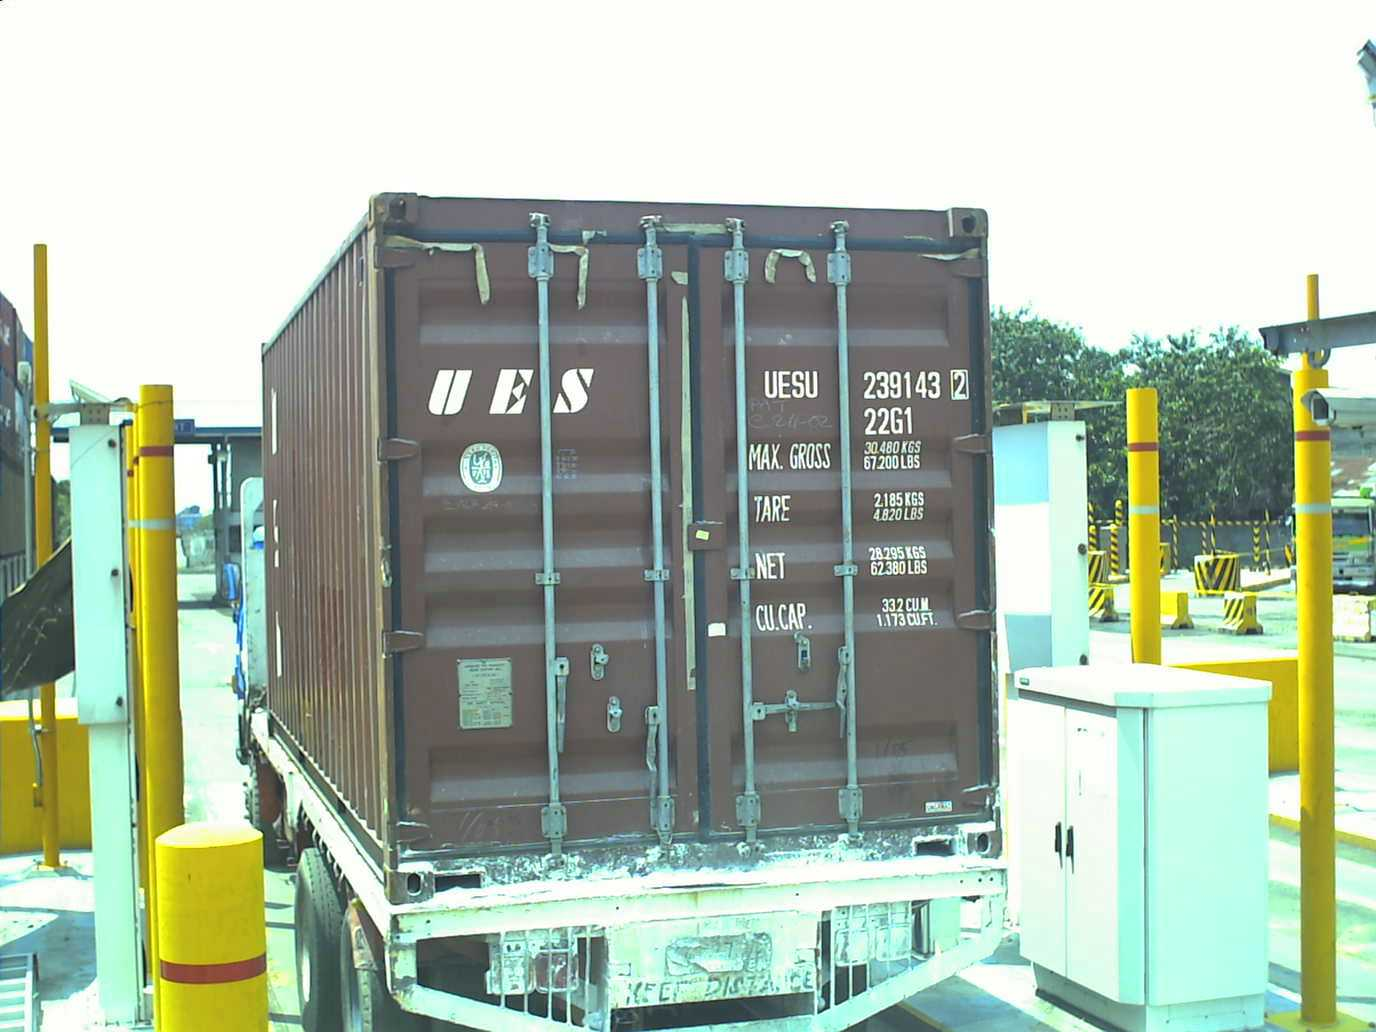container_door: (371, 189, 1011, 873)
